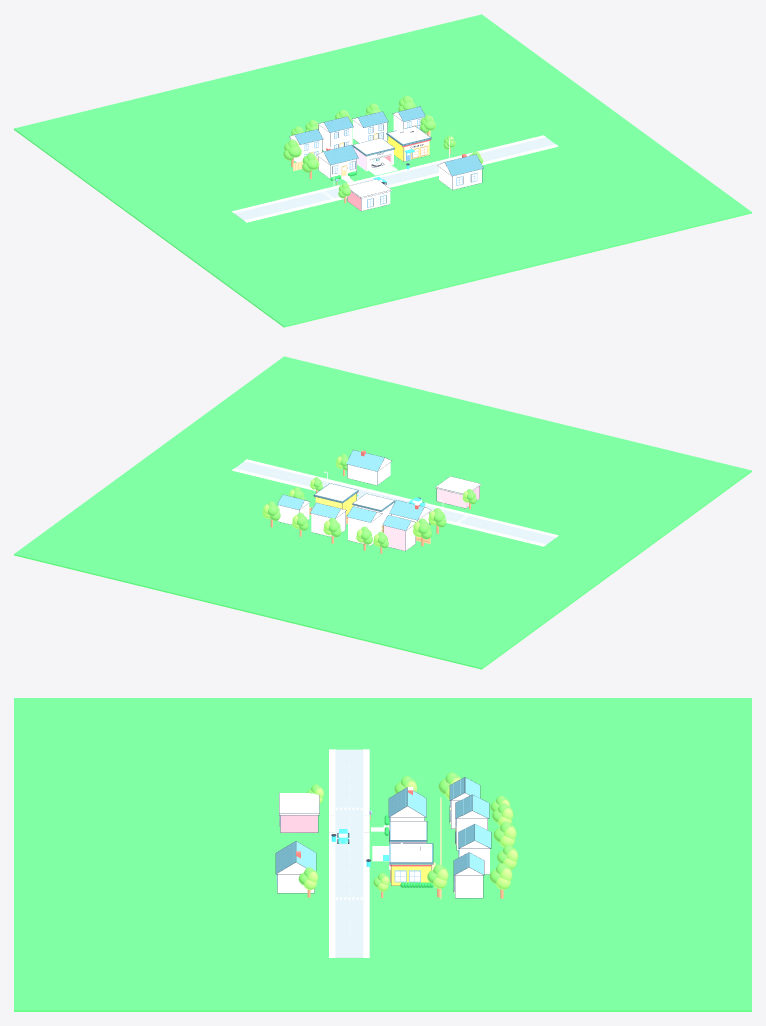
The model's file is environment.glb.
3 renders of one model, top to bottom at view 1: azimuth 30°, elevation 25°; view 2: azimuth 150°, elevation 25°; view 3: azimuth 270°, elevation 25°, orthographic. The views are drawn at different scales.
Visible parts, largest first — view 1: Continuous_town_ground, Main_street, Concrete_sidewalk, Concrete_sidewalk.001, Foreground_house_roof; view 2: Continuous_town_ground, Main_street, Concrete_sidewalk.001, Foreground_house, Background_house, Concrete_sidewalk, Foreground_house_roof, Background_house.001; view 3: Continuous_town_ground, Main_street, Concrete_sidewalk.001, Concrete_sidewalk, Foreground_house_roof, Home_roof, Foreground_store_roof, Bar_roof_flat, Background_roof.002, Lab_roof_top, Background_roof.001, Foreground_store (+3 smaller).
Part boxes in pixels (<box>): Continuous_town_ground: <box>14,14,751,327</box>; Main_street: <box>234,137,555,220</box>; Concrete_sidewalk: <box>232,135,545,212</box>; Concrete_sidewalk.001: <box>245,144,558,222</box>; Foreground_house_roof: <box>438,154,483,175</box>; Continuous_town_ground: <box>14,356,751,669</box>; Main_street: <box>235,461,555,544</box>; Concrete_sidewalk.001: <box>245,459,558,536</box>; Foreground_house: <box>347,462,390,485</box>; Background_house: <box>384,525,415,550</box>; Concrete_sidewalk: <box>232,468,545,546</box>; Foreground_house_roof: <box>346,450,391,471</box>; Background_house.001: <box>348,515,381,545</box>; Continuous_town_ground: <box>14,698,751,1011</box>; Main_street: <box>335,749,363,957</box>; Concrete_sidewalk.001: <box>329,749,334,957</box>; Concrete_sidewalk: <box>363,749,369,957</box>; Foreground_house_roof: <box>276,841,315,873</box>; Home_roof: <box>389,787,426,817</box>; Foreground_store_roof: <box>279,793,319,814</box>; Bar_roof_flat: <box>390,844,431,862</box>; Background_roof.002: <box>458,824,490,848</box>; Lab_roof_top: <box>390,821,426,839</box>; Background_roof.001: <box>455,795,488,818</box>; Foreground_store: <box>280,815,317,832</box>.
Size of the model in its own units: 90 by 5.88 by 90.
